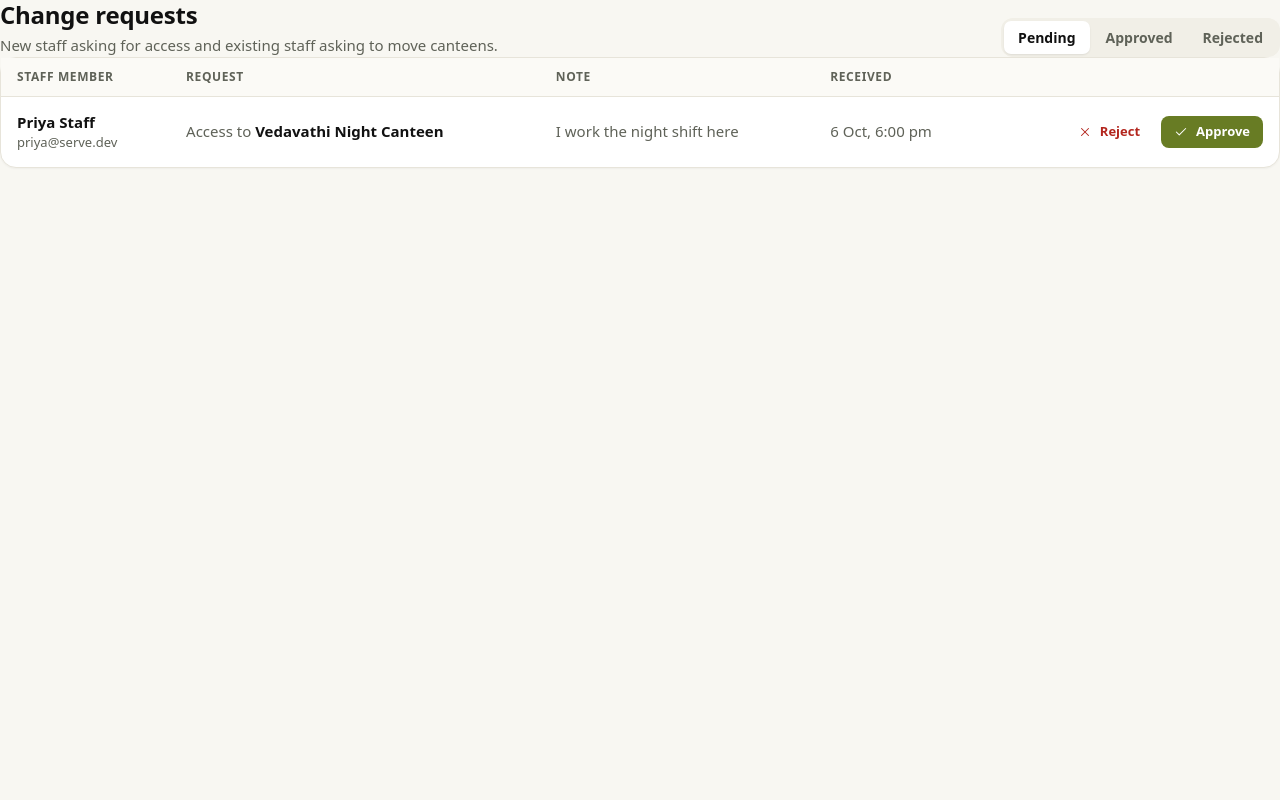
Test: change requests › keeps the dialog open and shows the conflict when another admin already reviewed it
Click the button with aria-label "Approve Priya Staff" at x=1212, y=132, box [1161, 116, 1263, 148]
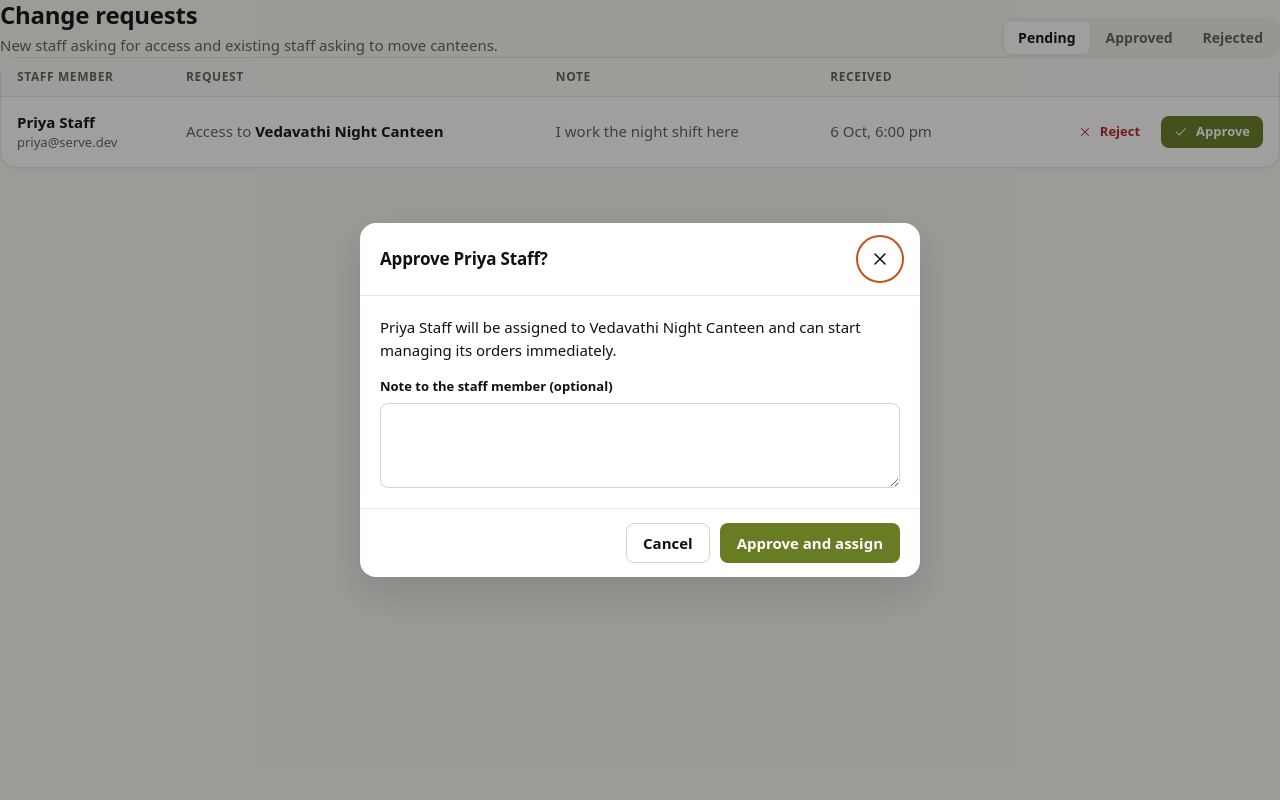
Click the button "Approve and assign" at x=810, y=543, box [720, 523, 900, 563]
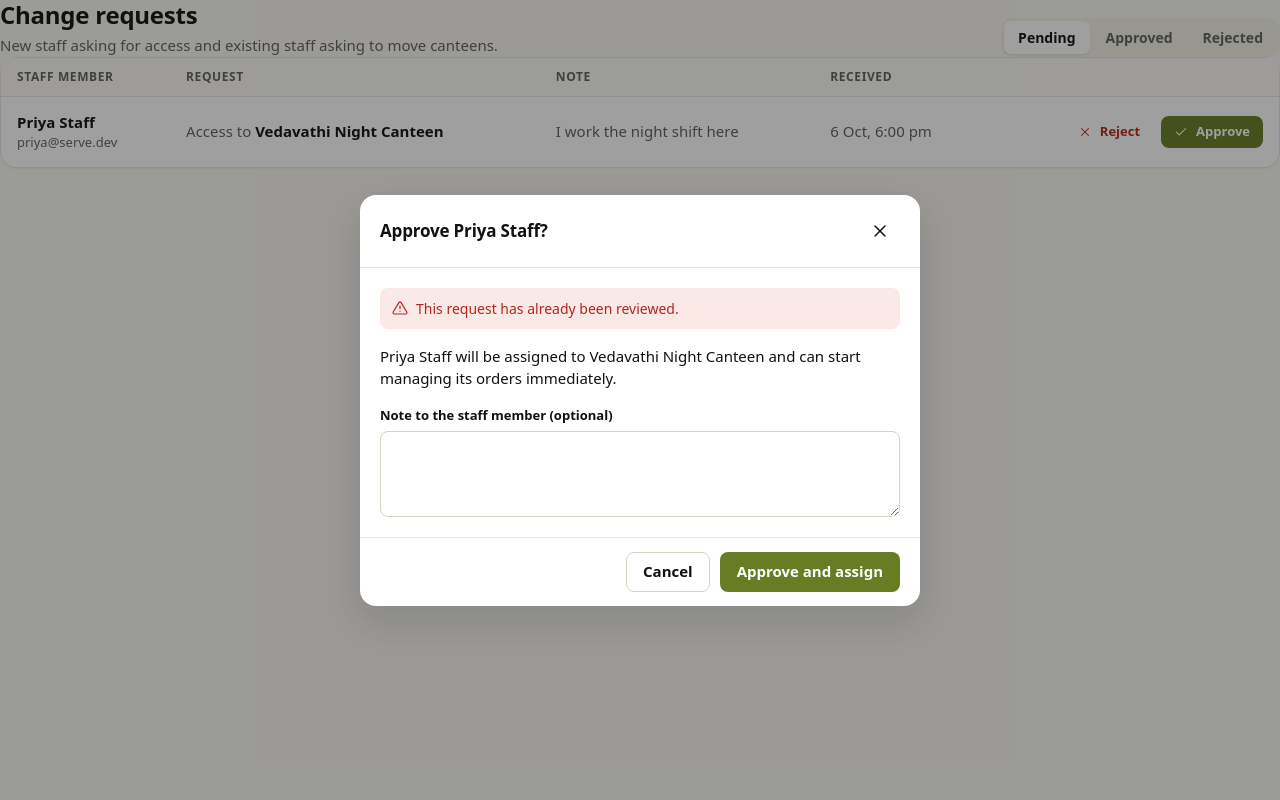
Check: the text "This request has already been reviewed." is shown, box [380, 288, 900, 328]
